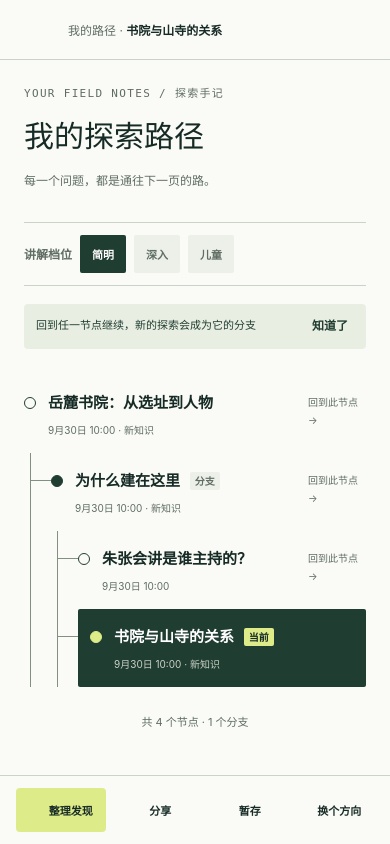
it: PathView(我的路径,FR-E03/E04/E05) › 带 cardVersionId 跳转进入:浮条确认调 addNode(父节点+卡版本),新节点成为当前
This screenshot has width=390, height=844.
Click the button with class "node" that starts with "岳麓书院：从选址到人物" at (195, 414), box x1=24 y1=375 x2=366 y2=453
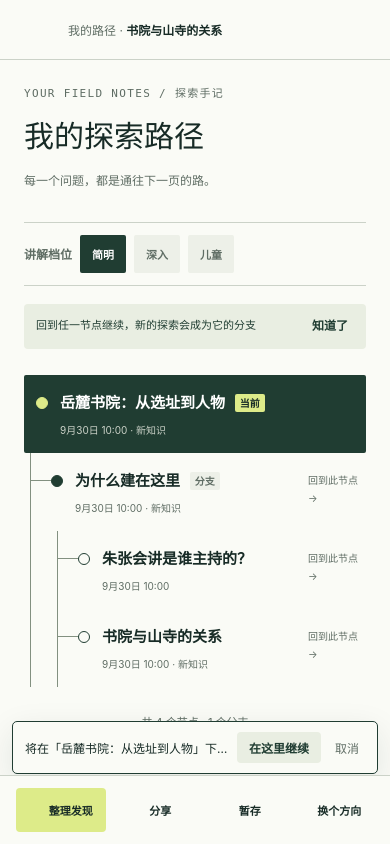
Click the button with class "rb-go" at (279, 748), box x1=237 y1=732 x2=321 y2=763
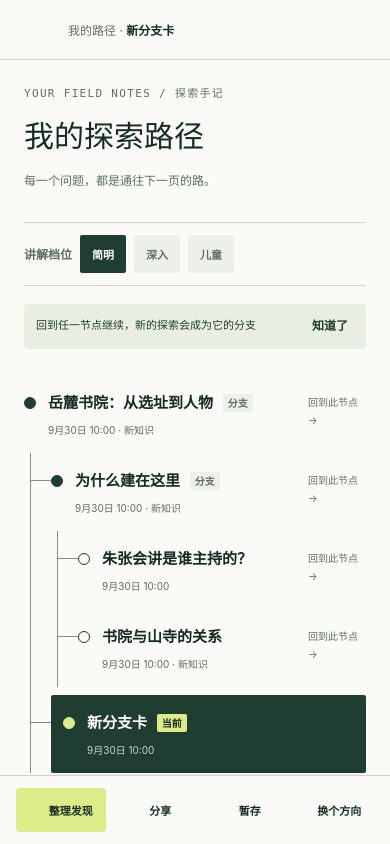
Expected: the number of buttons with class "node" is 5, x1=24 y1=375 x2=366 y2=453; x1=51 y1=453 x2=366 y2=531; x1=78 y1=531 x2=366 y2=609; x1=78 y1=609 x2=366 y2=687; x1=51 y1=695 x2=366 y2=773
Expected: the button with class "node" shows "新分支卡", x1=51 y1=695 x2=366 y2=773
Expected: the 1st text with class "fork" is shown, x1=223 y1=394 x2=253 y2=412
